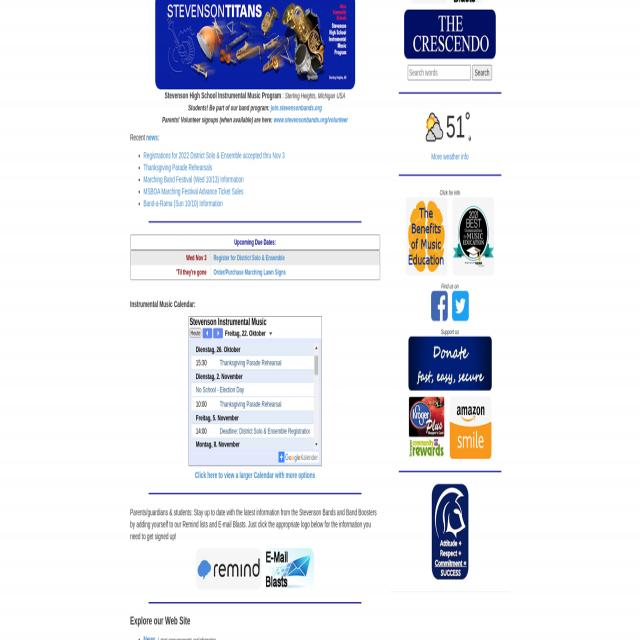button: (155, 0, 355, 89), (408, 336, 492, 391), (404, 9, 496, 59), (432, 484, 468, 579), (452, 197, 494, 276), (406, 197, 447, 276), (196, 548, 262, 590), (450, 396, 491, 458), (408, 396, 444, 458), (264, 548, 314, 590), (431, 291, 448, 321), (452, 291, 468, 321), (278, 451, 319, 462), (213, 328, 223, 339), (190, 328, 201, 338), (203, 328, 212, 338), (314, 356, 318, 376), (314, 441, 319, 450), (314, 344, 319, 352)
field: (408, 65, 470, 80), (472, 65, 492, 80)
